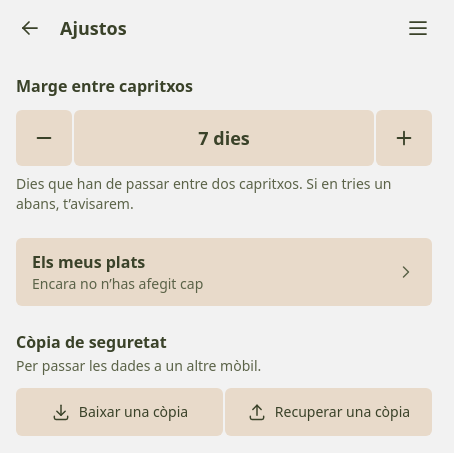
SettingsScreen › "+" augmenta el marge i el desa
The width and height of the screenshot is (454, 453).
Expected: the heading "Ajustos" is shown, 60,16 -> 127,40
Click the button named "Un dia més".
click(404, 138)  # box 376,110 -> 432,166
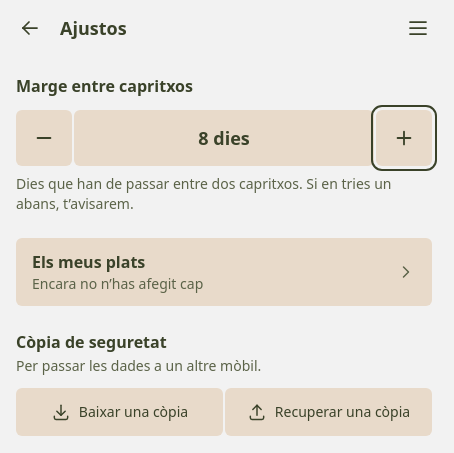
Now the text "8 dies" is shown, box 74,110 -> 374,166
